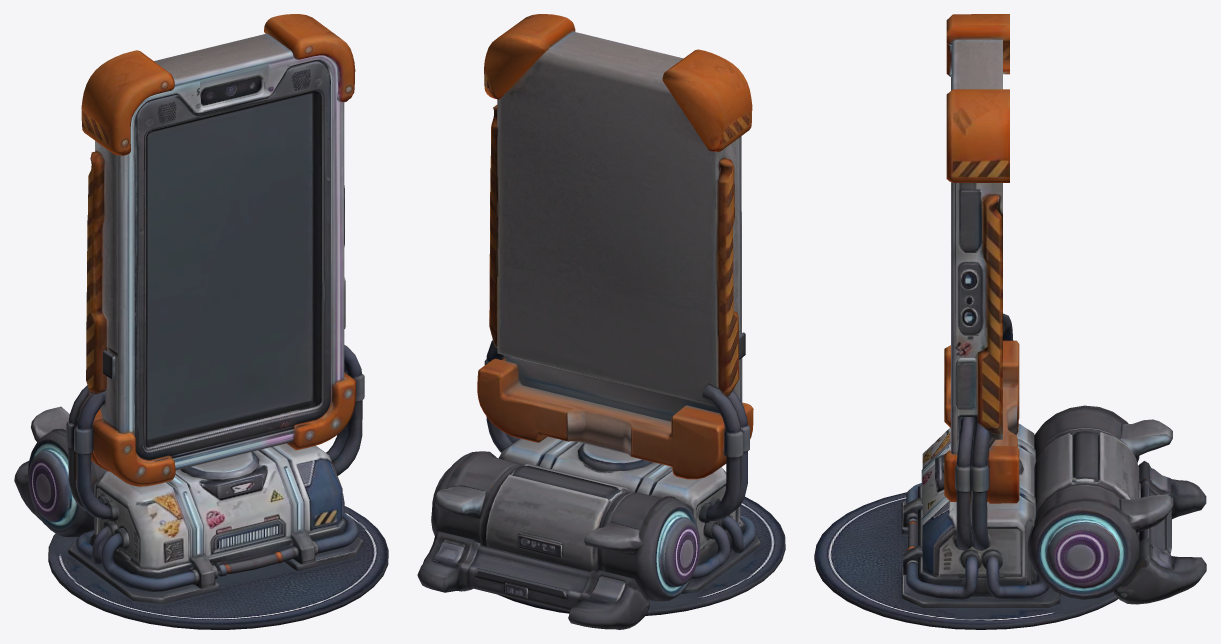
Rendered from standing_billboard.glb.
The picture shows the model from 3 angles, left to right: view 1: azimuth 30°, elevation 25°; view 2: azimuth 150°, elevation 25°; view 3: azimuth 270°, elevation 25°; orthographic projection. The views are drawn at different scales.
Parts seen in each view (by area): view 1: tripo_node_a95bb5a5; view 2: tripo_node_a95bb5a5; view 3: tripo_node_a95bb5a5.
Boxes of the visible parts, x1,y1,x2,y2 form: tripo_node_a95bb5a5: (14,14,388,629); tripo_node_a95bb5a5: (417,14,785,629); tripo_node_a95bb5a5: (814,14,1206,629).
Size of the model in its own units: 0.6011 by 0.9995 by 0.7065.
Materials: 1 (1 with a texture image).
